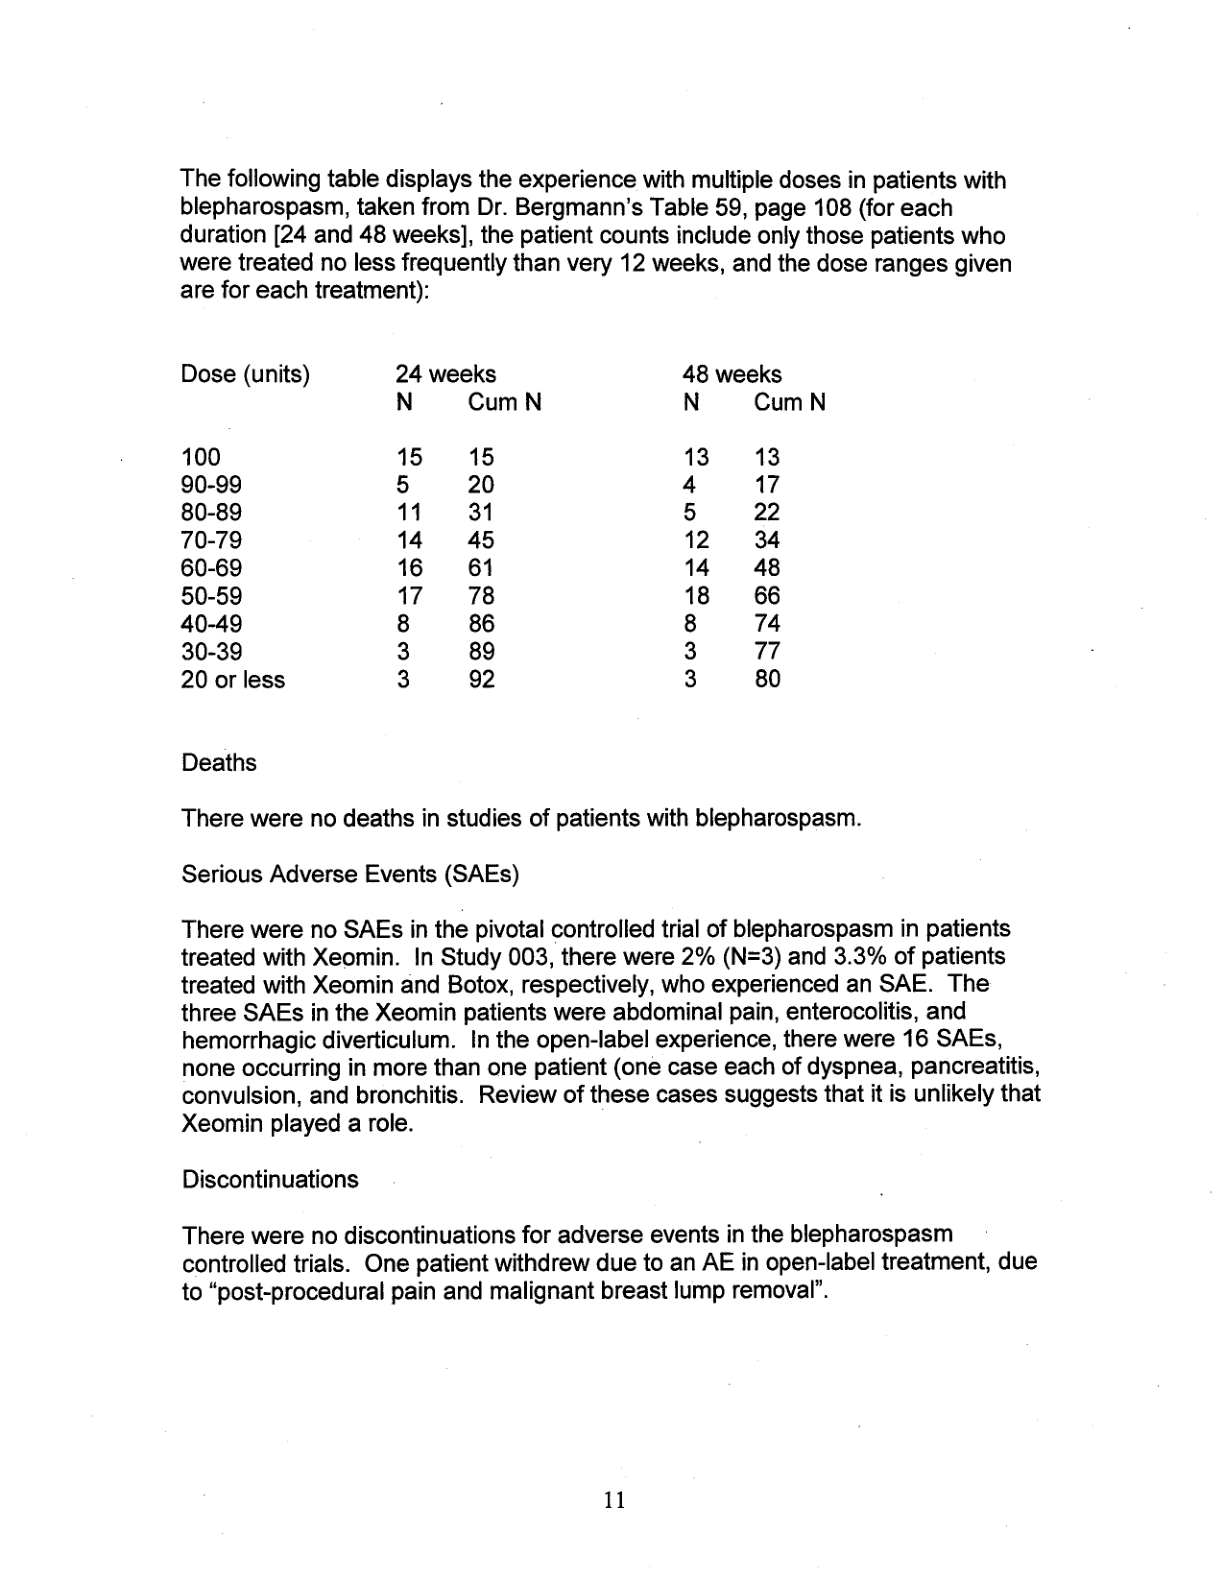nolines: (175, 361, 828, 693)
